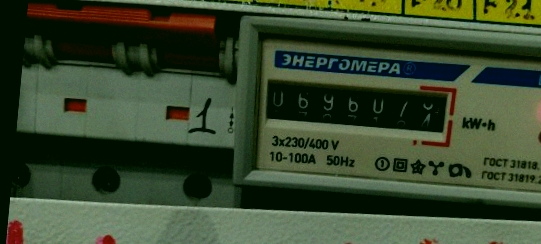0: (369, 92, 386, 115), (269, 85, 285, 108)
4: (418, 109, 433, 131)
6: (294, 87, 310, 109), (344, 91, 360, 112)
7: (394, 96, 411, 118)
9: (319, 89, 334, 111)
screen: (250, 67, 461, 145)
